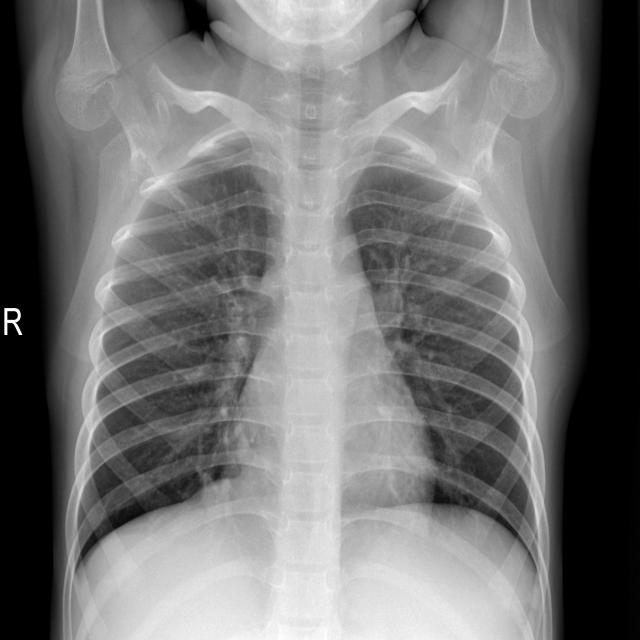no-pneumonia: (71, 134, 281, 565), (349, 165, 549, 586)
